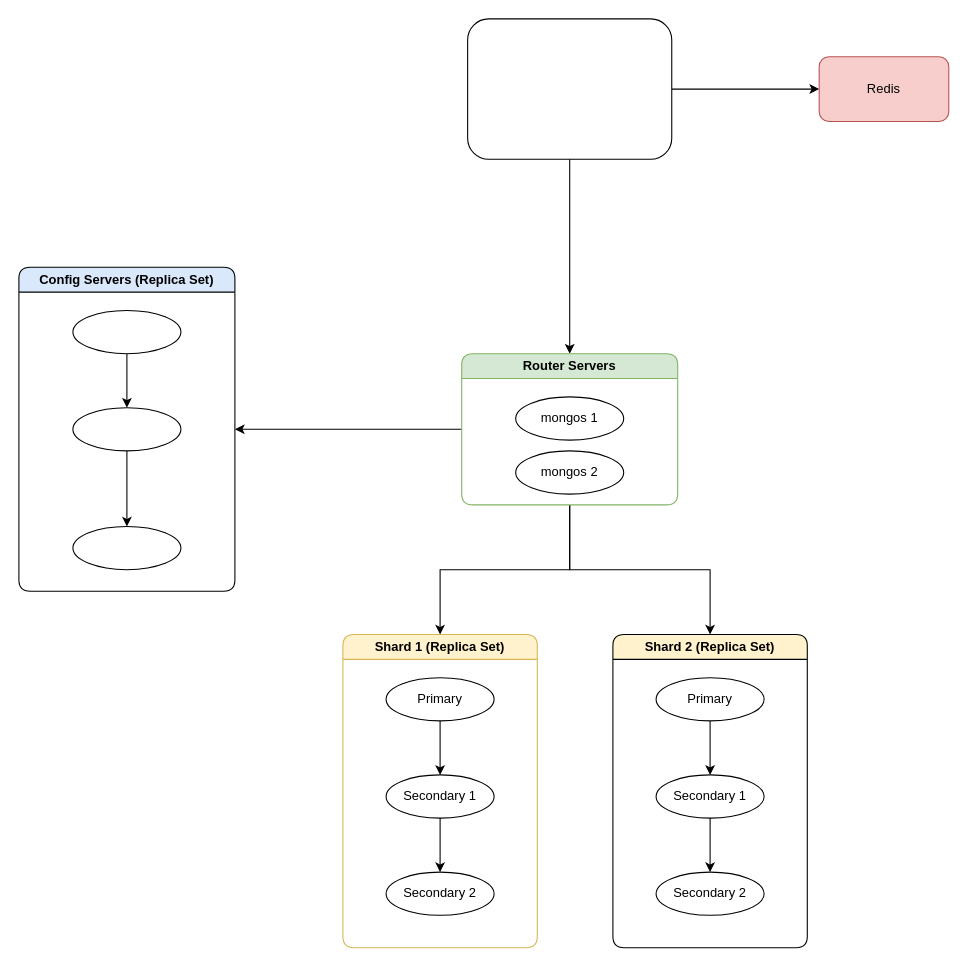
Image size: 968x967. Some labels were removed from this diagram. The shapes that lost their labels are listed below. From the top down, each one's centre as x and y in pixels, then its label:
At [569,88]: "pymongo-api".
At [126,331]: "configSrv Primary".
At [126,429]: "configSrv Secondary 1".
At [126,547]: "configSrv Secondary 2".
